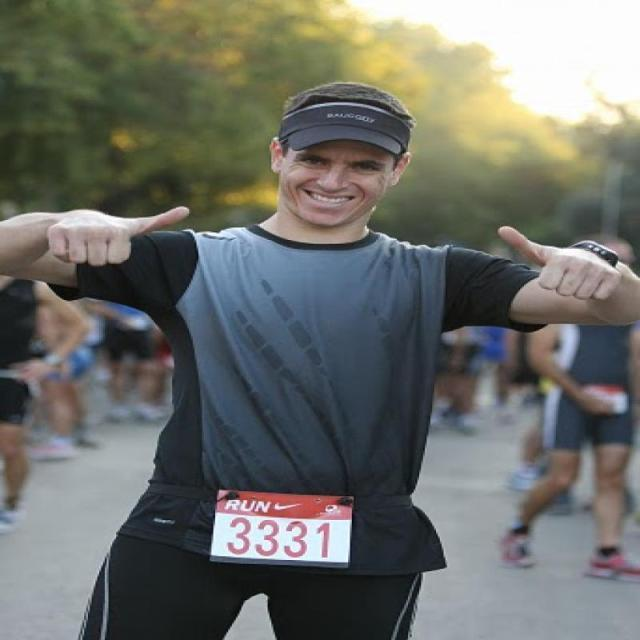dorsal: (205, 488, 358, 566)
